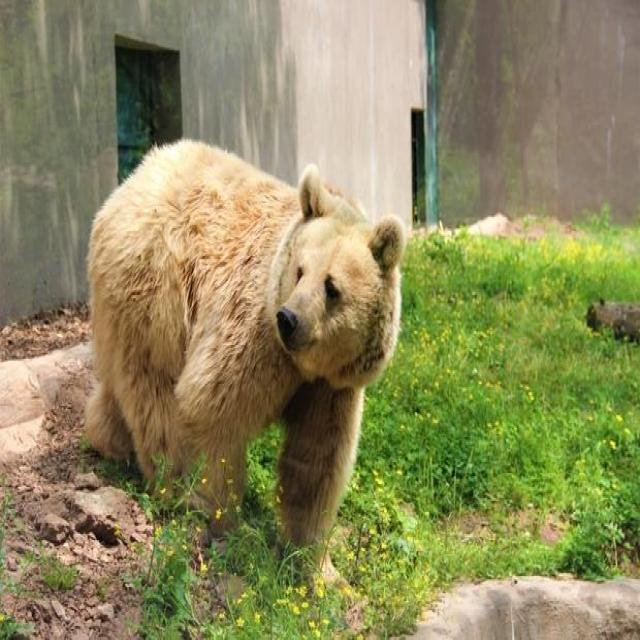Bear: (84, 140, 406, 565)
